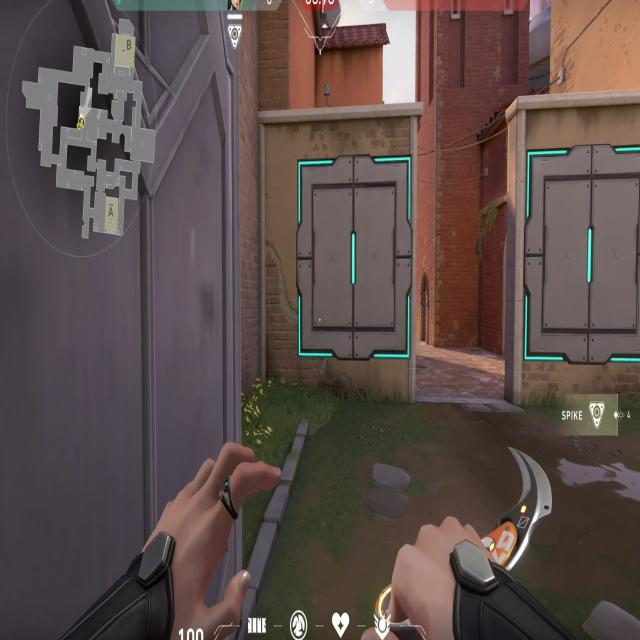Mid_Wall: (527, 145, 640, 368), (298, 152, 413, 362)
